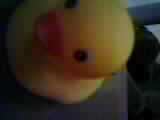duck: (15, 8, 129, 107)
